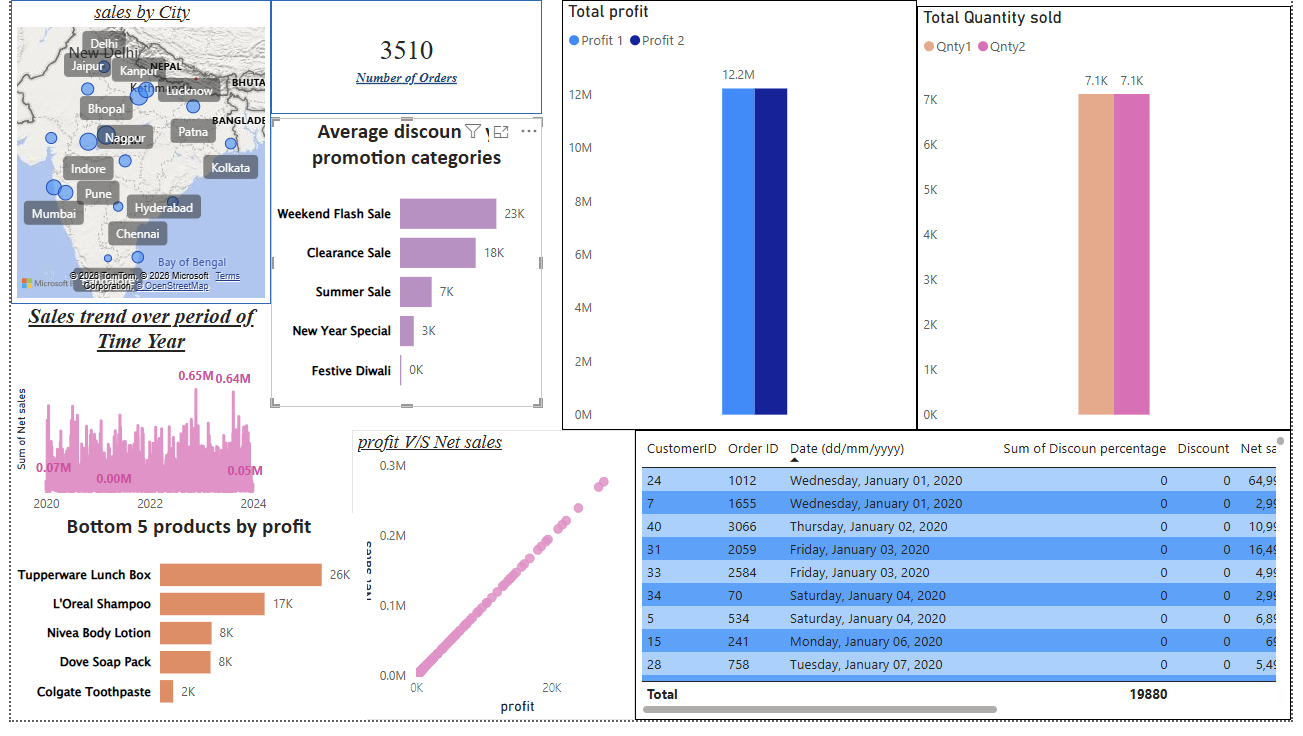

This screenshot's page, from the dashboard's own definition file:
{"tool":"powerbi","page":{"name":"Requirement 4","canvas":[1280,720],"ordinal":2},"visuals":[{"type":"slicer","fields":{"Values":["Date table 1.Date"]},"box":[12.6,80.7,541.8,185.8],"z":0},{"type":"slicer","fields":{"Values":["Date table 2.Date"]},"box":[598.2,80.7,541.8,185.8],"z":1000},{"type":"clusteredColumnChart","title":"Total sales","fields":{"Y":["Sum(Fact table.Net sales)","Date table 1.SUM of net sales"]},"box":[12.6,284,354,405.6],"z":2000},{"type":"clusteredColumnChart","title":"Total profit","fields":{"Y":["Sum(Fact table.profit)","Measures Table.Total profit"]},"box":[366.7,284,354,405.6],"z":3000},{"type":"clusteredColumnChart","title":"Total Quantity sold","fields":{"Y":["Sum(Fact table.Units Sold)","Measures Table.Quanity Sold"]},"box":[738.9,294.4,354.4,405.6],"z":4000}]}

Visuals, with their boxes in screenshot pixels (x1, y1, x2, y2), scaled from the page's 1280x720 canvas onto the 1303x736 screenshot:
slicer - Date table 1.Date: <region>13, 82, 564, 272</region>
slicer - Date table 2.Date: <region>609, 82, 1160, 272</region>
"Total sales" clusteredColumnChart: <region>13, 290, 373, 705</region>
"Total profit" clusteredColumnChart: <region>373, 290, 734, 705</region>
"Total Quantity sold" clusteredColumnChart: <region>752, 301, 1113, 716</region>
